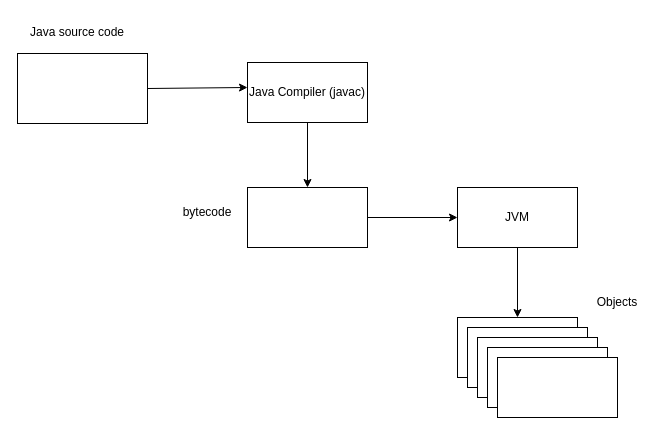
The diagram is 665 pixels wide and 435 high, and some of its shapes have lost their labels. Each missing label, with the box of its shape:
Cass file: (246, 186, 368, 248)
Class Sample { ... }: (16, 52, 148, 124)
